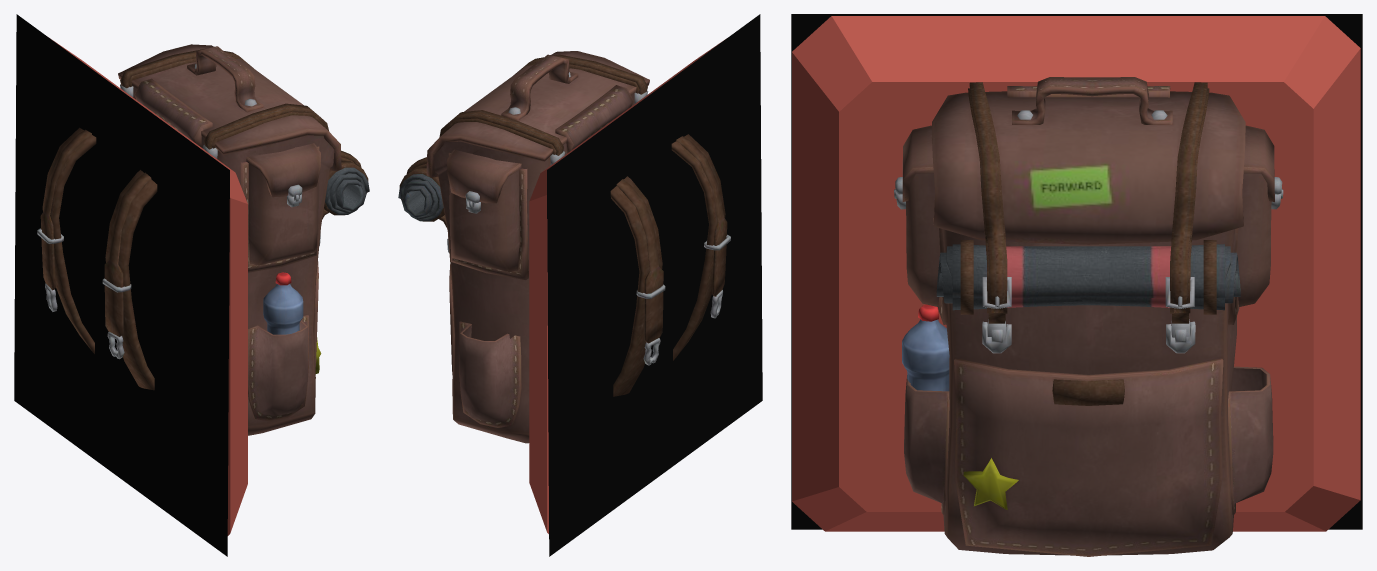
The model's file is bptabred.glb.
The picture shows the model from 3 angles, left to right: view 1: azimuth 30°, elevation 25°; view 2: azimuth 150°, elevation 25°; view 3: azimuth 270°, elevation 25°; orthographic projection. The views are drawn at different scales.
Parts seen in each view (by area): view 1: Plane, bag.003_low, Cube, bag_low, bag.036_low, bag.018_low, bag.041_low, bag.045_low, bag.019_low, bag.039_low, bag.024_low, bag.006_low (+7 smaller); view 2: Plane, bag_low, bag.003_low, Cube, bag.037_low, bag.020_low, bag.045_low, bag.041_low, bag.021_low, bag.043_low, bag.024_low, bag.006_low (+6 smaller); view 3: Cube, bag.001_low, bag.003_low, bag_low, bag.011_low, Plane, bag.037_low, bag.036_low, bag.029_low, bag.030_low, bag.018_low, bag.020_low (+12 smaller).
Part boxes in pixels (x1=…): Plane: x1=14, y1=14, x2=229, y2=556; bag.003_low: x1=118, y1=44, x2=341, y2=171; Cube: x1=50, y1=38, x2=247, y2=535; bag_low: x1=133, y1=87, x2=334, y2=435; bag.036_low: x1=248, y1=315, x2=308, y2=421; bag.018_low: x1=248, y1=163, x2=318, y2=265; bag.041_low: x1=105, y1=170, x2=157, y2=390; bag.045_low: x1=42, y1=127, x2=96, y2=353; bag.019_low: x1=246, y1=143, x2=320, y2=197; bag.039_low: x1=104, y1=172, x2=151, y2=336; bag.024_low: x1=134, y1=78, x2=212, y2=147; bag.006_low: x1=187, y1=46, x2=263, y2=112; Plane: x1=547, y1=14, x2=762, y2=556; bag_low: x1=433, y1=93, x2=634, y2=443; bag.003_low: x1=426, y1=51, x2=649, y2=177; Cube: x1=529, y1=39, x2=725, y2=533; bag.037_low: x1=459, y1=321, x2=521, y2=427; bag.020_low: x1=449, y1=170, x2=519, y2=272; bag.045_low: x1=610, y1=176, x2=662, y2=396; bag.041_low: x1=671, y1=134, x2=725, y2=360; bag.021_low: x1=447, y1=149, x2=521, y2=203; bag.043_low: x1=616, y1=179, x2=663, y2=343; bag.024_low: x1=555, y1=85, x2=633, y2=153; bag.006_low: x1=501, y1=54, x2=578, y2=120; Cube: x1=792, y1=16, x2=1360, y2=531; bag.001_low: x1=954, y1=358, x2=1223, y2=556; bag.003_low: x1=932, y1=91, x2=1245, y2=244; bag_low: x1=942, y1=229, x2=1236, y2=555; bag.011_low: x1=936, y1=244, x2=1240, y2=310; Plane: x1=791, y1=14, x2=1362, y2=529; bag.037_low: x1=1228, y1=366, x2=1273, y2=514; bag.036_low: x1=904, y1=375, x2=949, y2=514; bag.029_low: x1=969, y1=82, x2=1005, y2=312; bag.030_low: x1=1171, y1=82, x2=1207, y2=312; bag.018_low: x1=906, y1=173, x2=940, y2=306; bag.020_low: x1=1237, y1=173, x2=1271, y2=306.
Size of the model in its own units: 1.66 by 2.42 by 2.41.
Materials: 3 (1 with a texture image).
